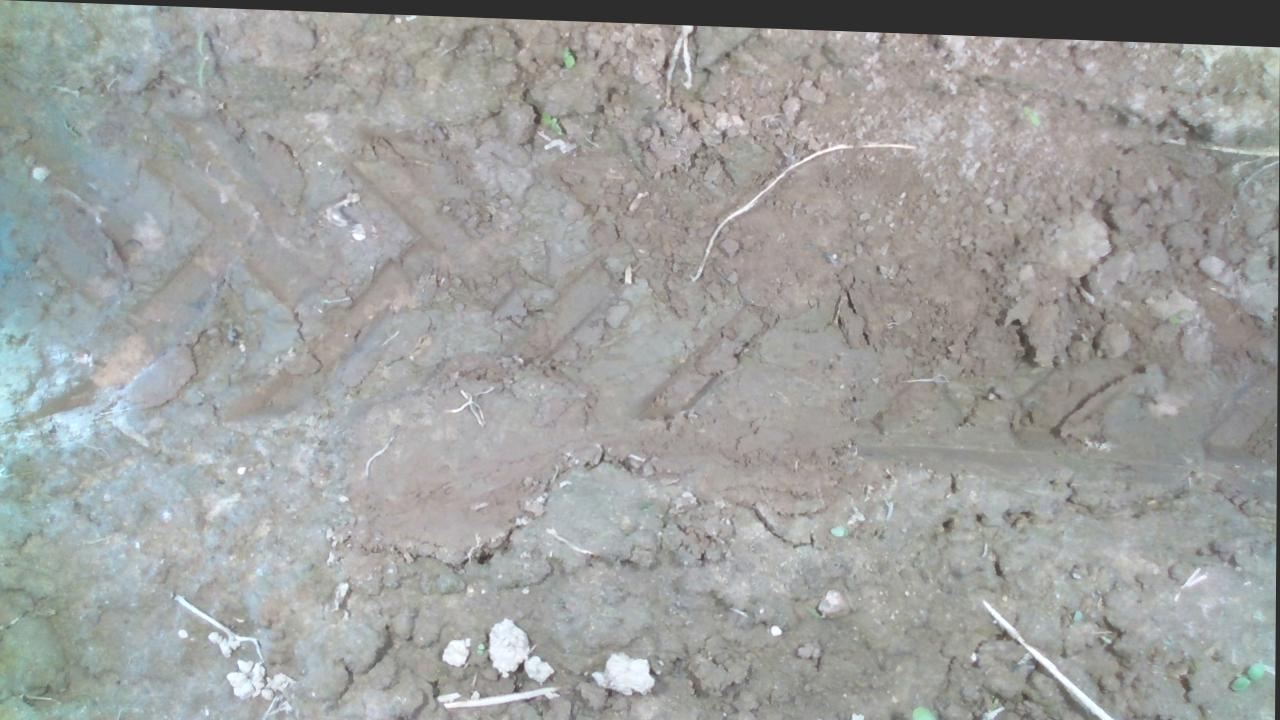weed: (1228, 649, 1265, 683), (559, 38, 577, 64)
